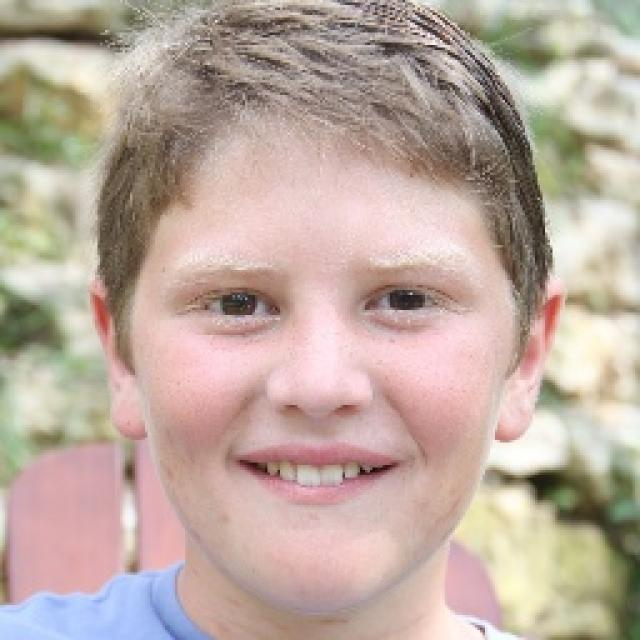earlobe: (492, 379, 540, 442), (108, 371, 147, 437)
eye: (191, 289, 280, 324), (360, 286, 450, 318)
nose: (271, 396, 373, 440)
wholeear: (492, 280, 564, 443), (88, 277, 148, 437)
